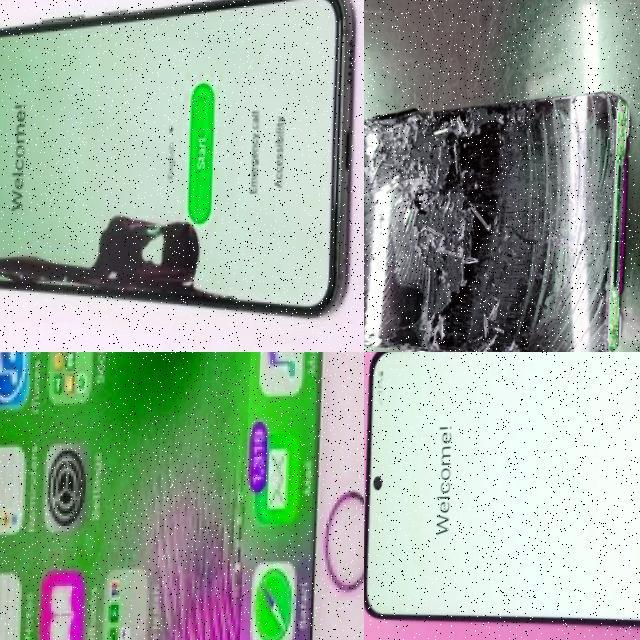dead pixel: (0, 199, 245, 325)
screen crack: (364, 84, 636, 352)
